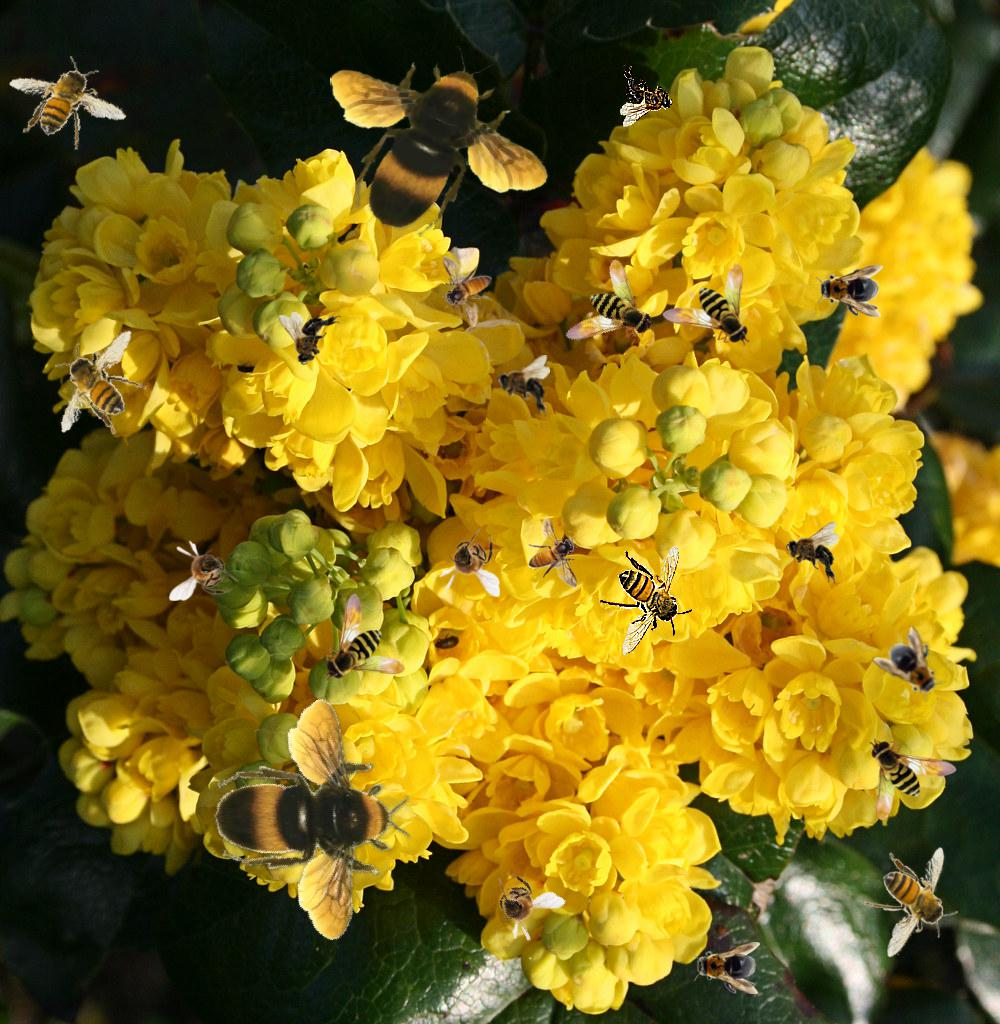Bee: (179, 683, 453, 970), (330, 46, 550, 237), (6, 48, 131, 160), (46, 320, 155, 444), (545, 254, 659, 366), (864, 847, 958, 958), (599, 545, 693, 656), (474, 860, 567, 952), (871, 624, 957, 710), (323, 593, 405, 681), (662, 264, 750, 346), (869, 738, 957, 820), (169, 540, 239, 601), (439, 527, 500, 597), (528, 517, 578, 588), (442, 256, 492, 327), (692, 942, 760, 994), (815, 265, 883, 317), (620, 65, 673, 127), (786, 522, 839, 584), (497, 355, 550, 417), (279, 312, 341, 365)
